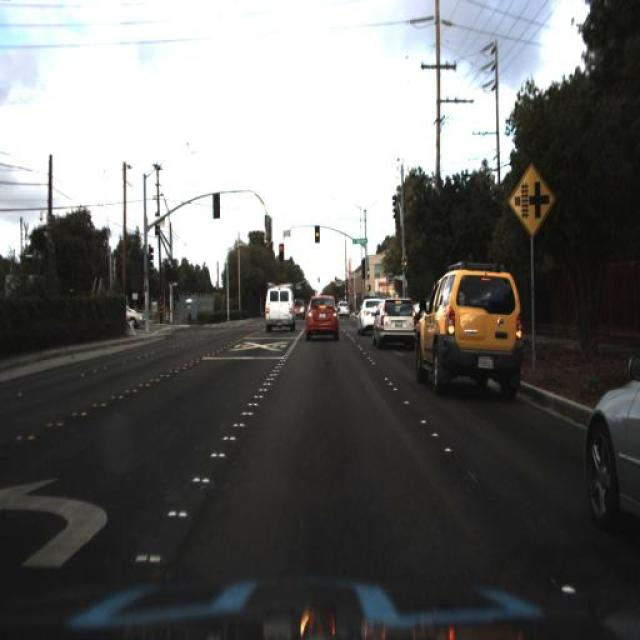car: (409, 255, 536, 406), (583, 341, 639, 538), (296, 288, 348, 344), (371, 291, 413, 351), (261, 286, 295, 330), (358, 296, 378, 342), (126, 306, 149, 330)
trafficLight-Green: (313, 226, 322, 258), (277, 238, 287, 262)
trafficLight-RedLeft: (363, 258, 372, 286)
